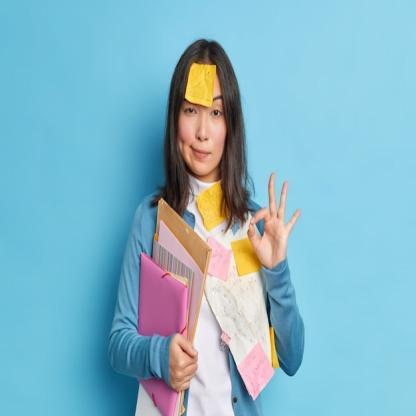ok: (246, 169, 304, 272)
